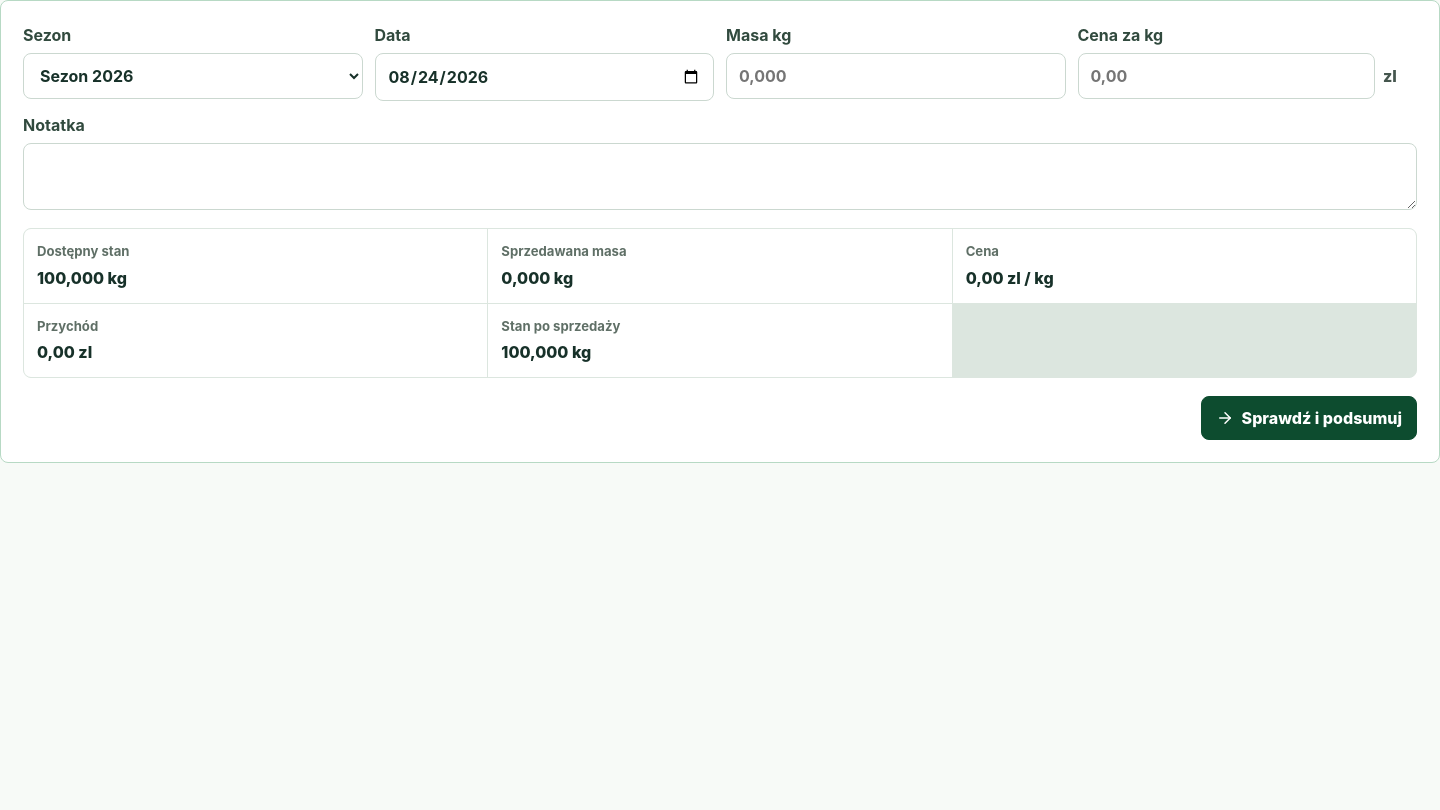
OrdinarySaleForm › shows the amount exceeding visible stock without hiding it
Type "120" into the field labelled "Masa kg" at (896, 76), box [726,53,1066,99]
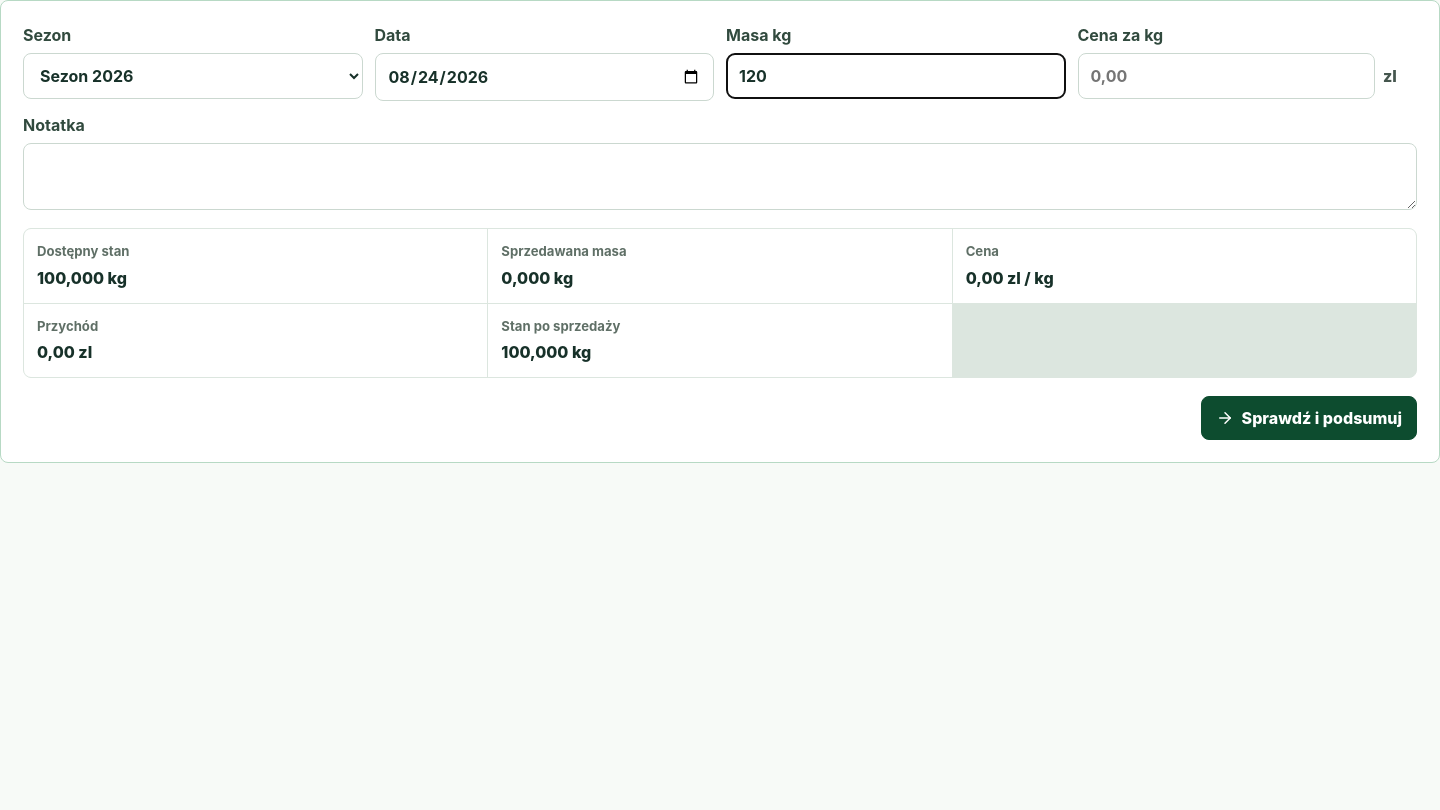
Type "10" into the field labelled "Cena za kg" at (1226, 76), box [1078,53,1375,99]
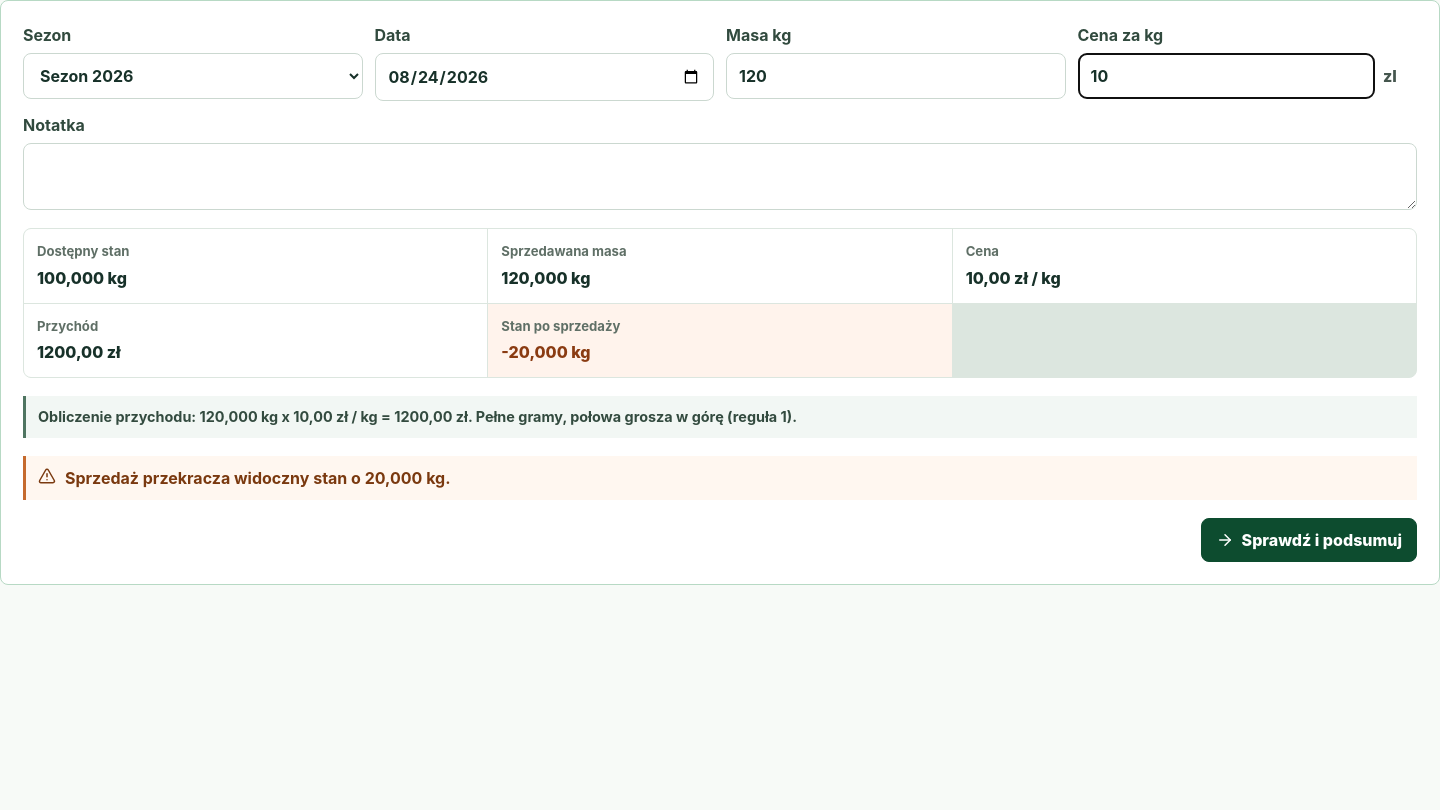
Now the text "-20,000 kg" is shown, box [501,342,591,362]
Now the text "Sprzedaż przekracza widoczny stan o 20,000 kg." is shown, box [23,456,1417,500]
